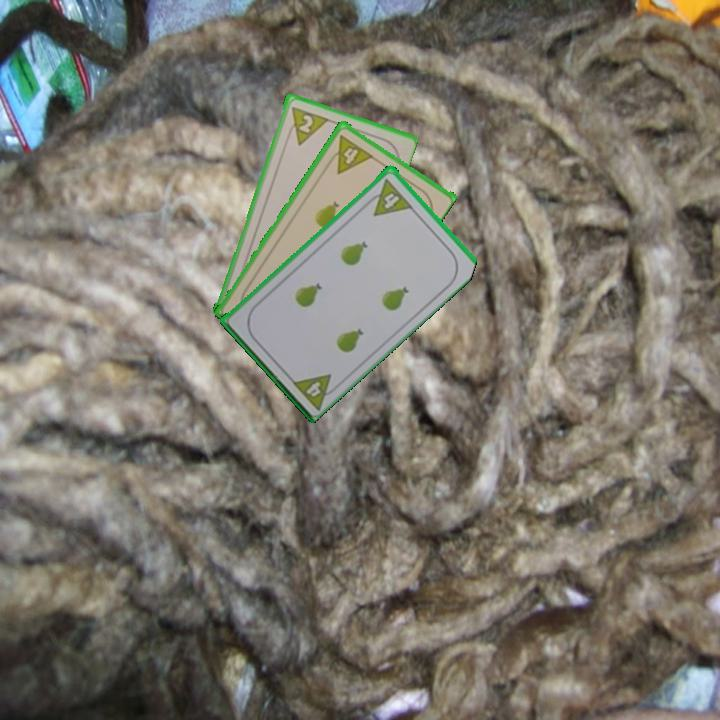2p: (283, 102, 330, 148)
4p: (362, 174, 415, 219), (323, 131, 375, 176), (288, 370, 343, 412)
